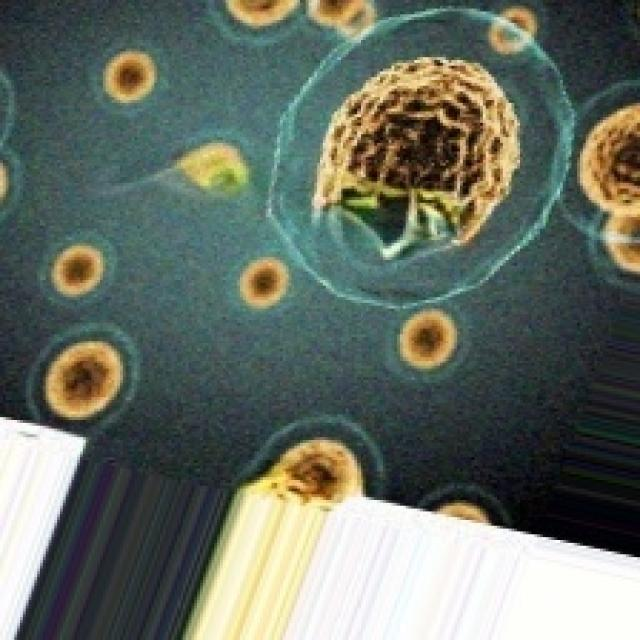Spherical_bacteria: (309, 51, 520, 260)
